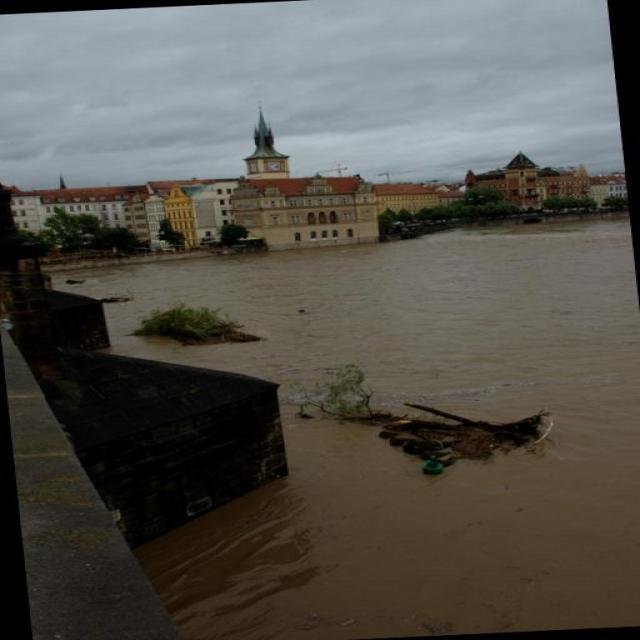flood: (56, 226, 639, 639)
